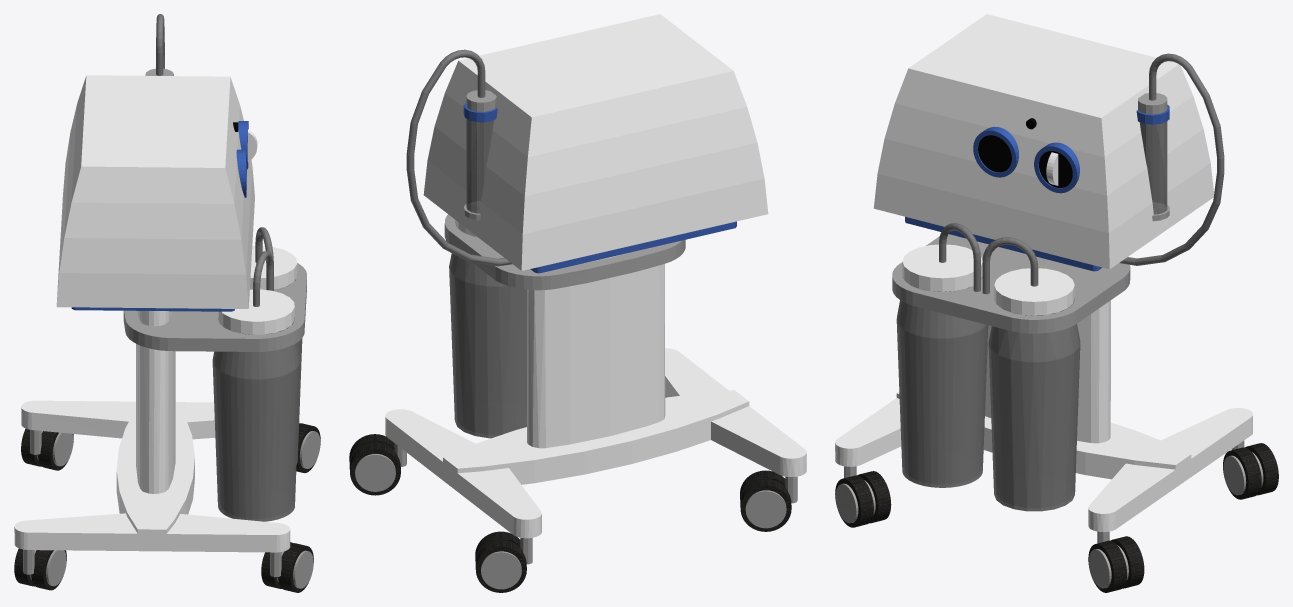
The model's file is Vakuumsauger.fbx.
3 views of the same model, side by side, from view 1: azimuth 30°, elevation 25°; view 2: azimuth 150°, elevation 25°; view 3: azimuth 270°, elevation 25° (orthographic). The views are drawn at different scales.
Visible parts, largest first — view 1: Kunststoff PE, weiss, Glas Rauchglas, Farbe, grau, Asphalt, Farbe, blau; view 2: Kunststoff PE, weiss, Glas Rauchglas, Farbe, grau, Asphalt, Farbe, blau; view 3: Kunststoff PE, weiss, Glas Rauchglas, Farbe, grau, Asphalt, Farbe, blau, Farbe, schwarz.
Part boxes in pixels (x1,y1,x2,y2): Kunststoff PE, weiss: (14,75,297,552); Glas Rauchglas: (156,14,302,521); Farbe, grau: (23,68,320,588); Asphalt: (14,423,320,592); Farbe, blau: (71,121,248,311); Kunststoff PE, weiss: (385,14,806,538); Glas Rauchglas: (406,49,526,438); Farbe, grau: (355,90,797,589); Asphalt: (349,434,791,592); Farbe, blau: (463,102,736,273); Kunststoff PE, weiss: (835,14,1252,531); Glas Rauchglas: (896,53,1224,511); Farbe, grau: (835,93,1263,588); Asphalt: (835,443,1278,592); Farbe, blau: (905,104,1169,271); Farbe, schwarz: (978,118,1072,187).
Bounding box in the file's own units: 87.98 × 88.31 × 105.
7 materials, 1 textured.
